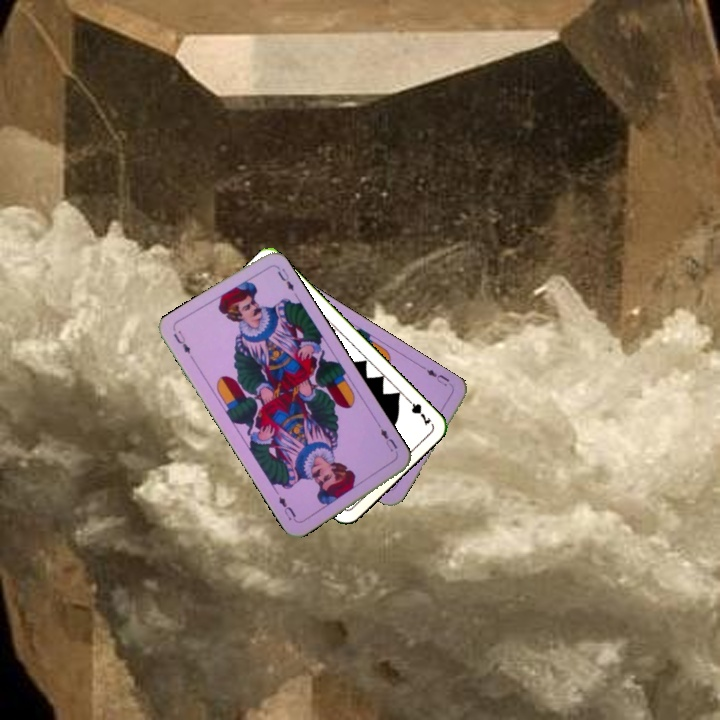EU: (419, 363, 452, 389), (169, 326, 193, 357), (376, 425, 400, 454)
G7: (401, 393, 434, 428)
